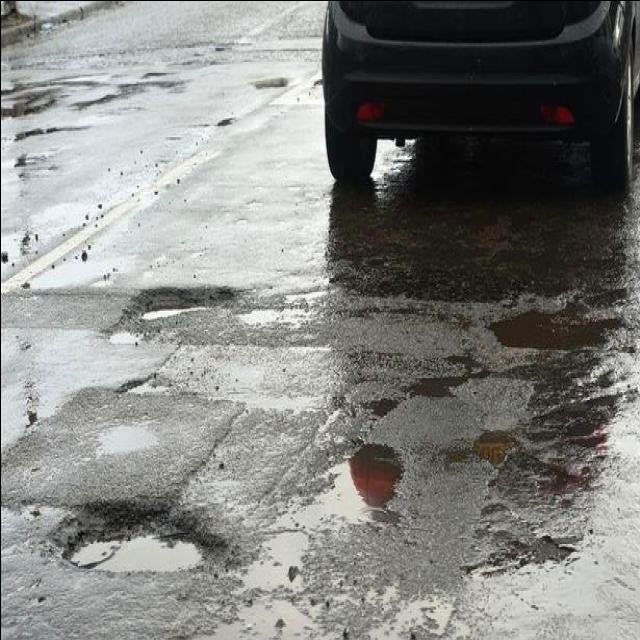jalan retak: (238, 382, 354, 526), (448, 520, 588, 586), (184, 396, 253, 484)
lubang: (236, 429, 413, 640), (50, 476, 246, 596), (470, 274, 634, 359), (106, 278, 246, 346), (389, 330, 495, 406), (444, 410, 528, 474), (115, 352, 182, 408), (247, 66, 290, 92), (204, 108, 240, 136)
